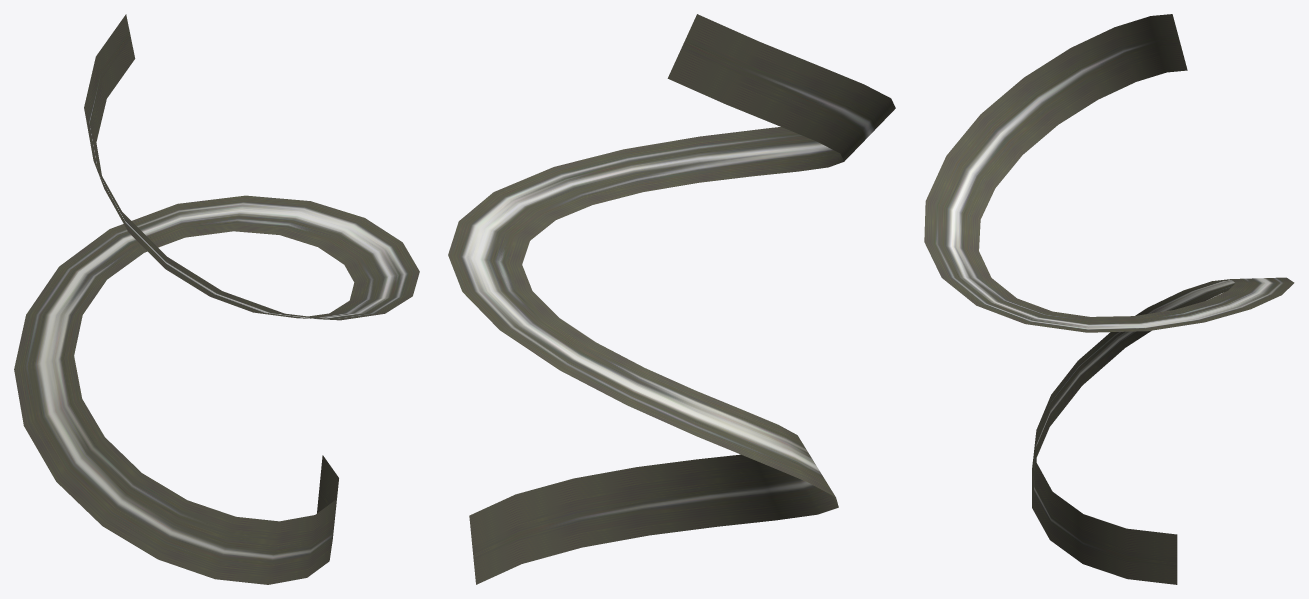
Rendered from quanquan.fbx.
3 renders of one model, left to right at view 1: azimuth 30°, elevation 25°; view 2: azimuth 150°, elevation 25°; view 3: azimuth 270°, elevation 25°, orthographic. The views are drawn at different scales.
Visible parts, largest first — view 1: quanquan; view 2: quanquan; view 3: quanquan.
Boxes of the visible parts, box(x1,y1,x2,y2) form: quanquan: box(14, 14, 419, 584); quanquan: box(448, 14, 895, 584); quanquan: box(924, 14, 1294, 584).
Size of the model in its own units: 4.77 by 7.65 by 5.26.
1 material, 1 textured.
